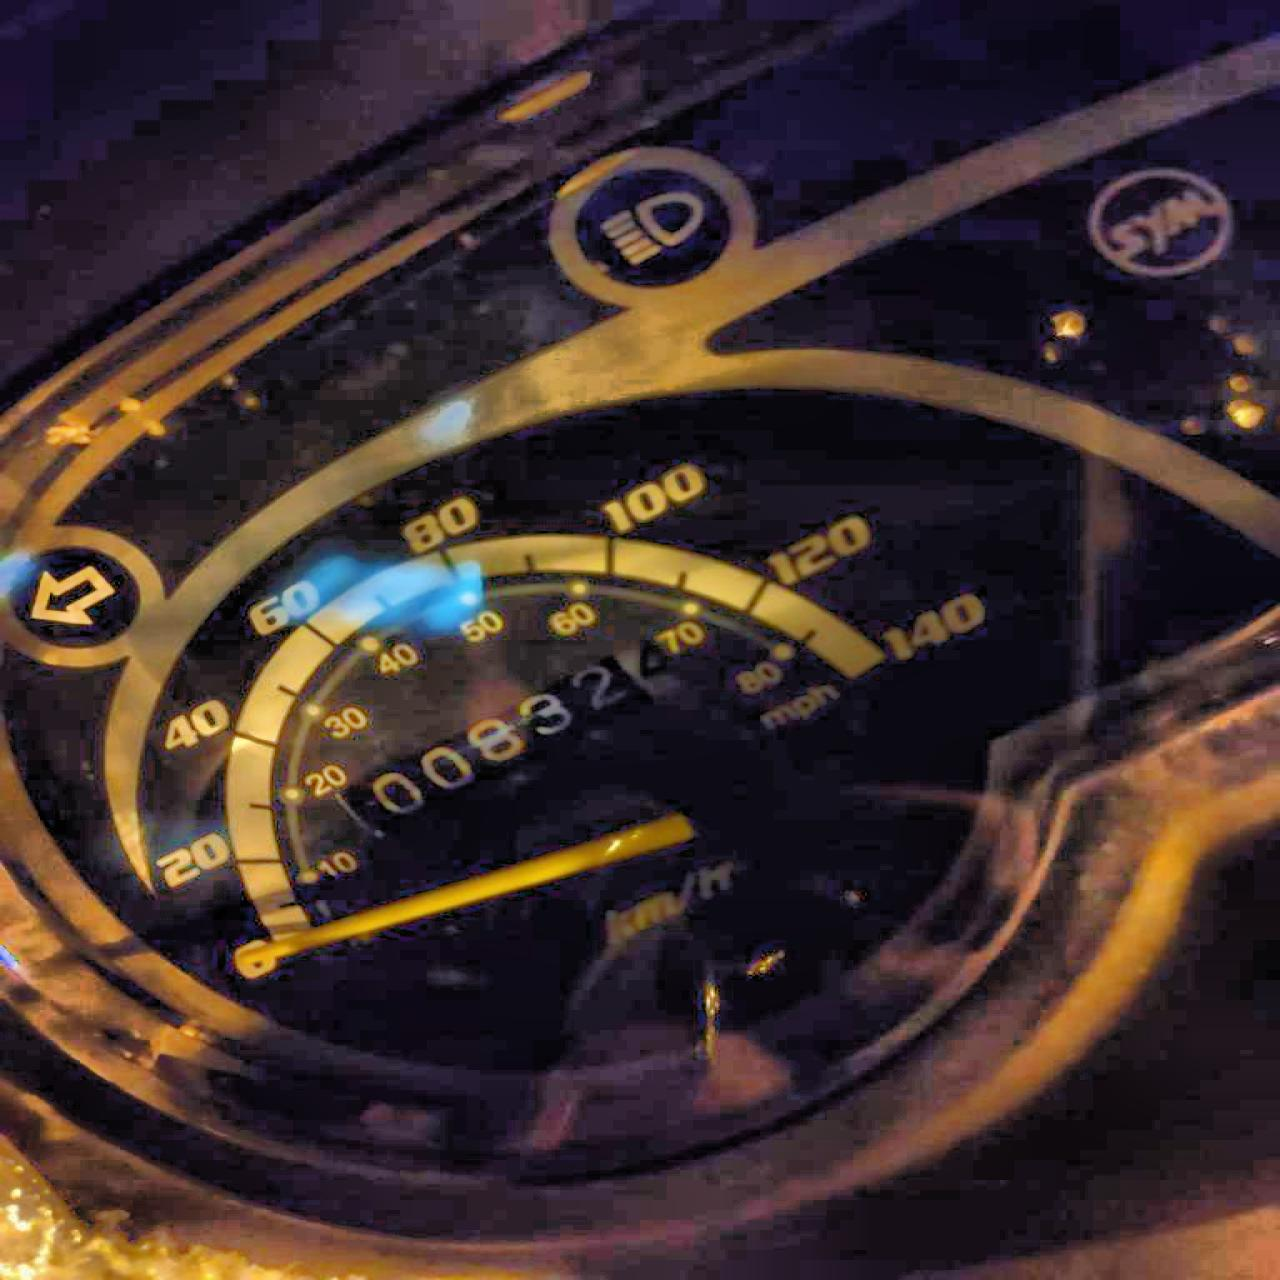0: (418, 744, 474, 791), (370, 769, 425, 815), (340, 703, 370, 729), (392, 641, 421, 665), (321, 764, 348, 787)
2: (568, 661, 628, 710)
3: (517, 690, 572, 735), (321, 714, 350, 737)
4: (633, 639, 682, 682), (376, 652, 402, 673)
7: (653, 627, 680, 654)
8: (467, 716, 522, 760)
odometer: (327, 634, 695, 846)
